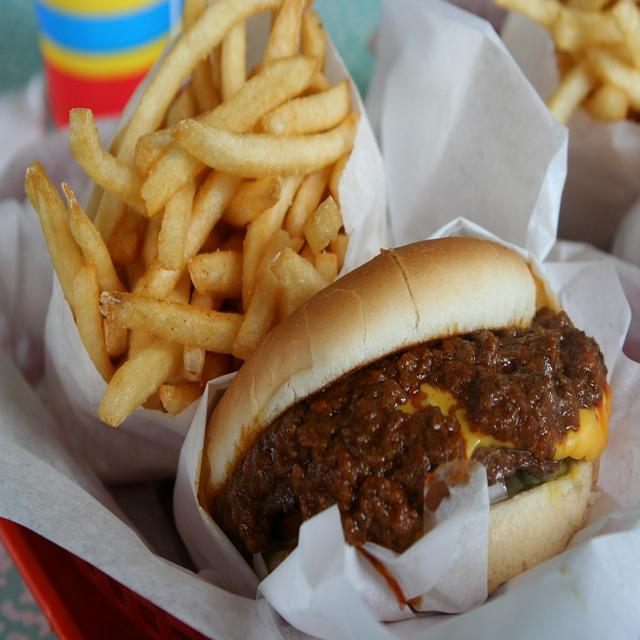Burger: (192, 226, 622, 598)
French Fries: (20, 1, 343, 433)
